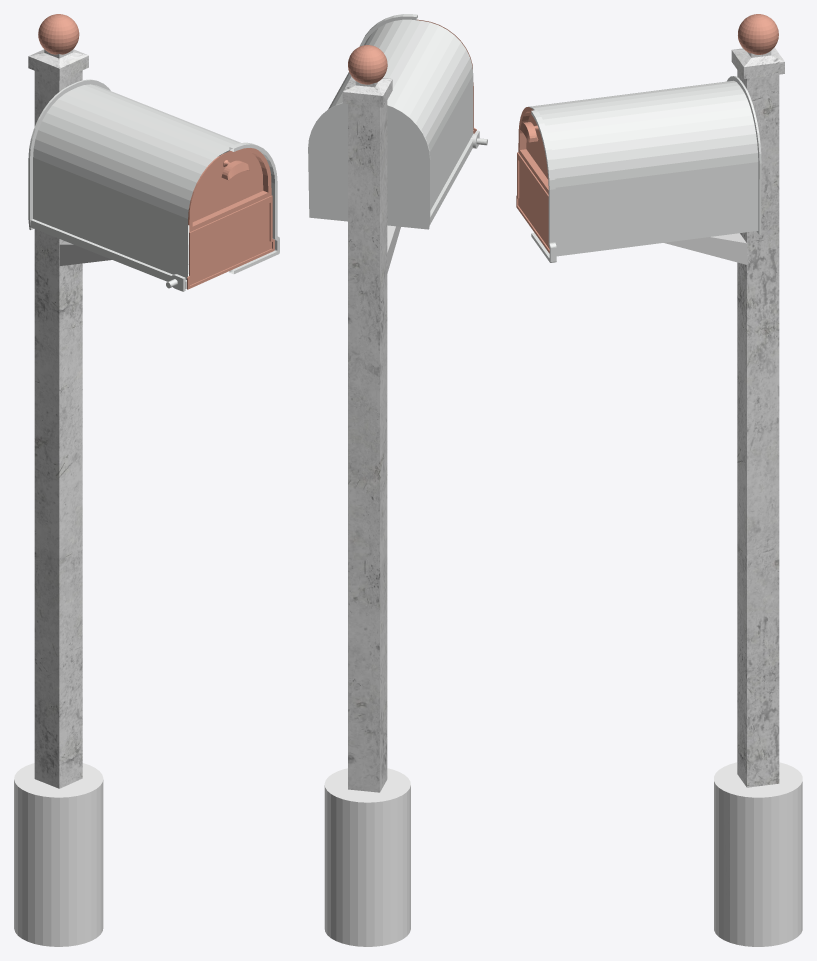
Rendered from mailbox-post-CiMJzcuK.glb.
The picture shows the model from 3 angles, left to right: view 1: azimuth 30°, elevation 25°; view 2: azimuth 150°, elevation 25°; view 3: azimuth 270°, elevation 25°; orthographic projection. The views are drawn at different scales.
Parts seen in each view (by area): view 1: Cube.008, Cube.006, Cylinder.003, Cube.007, Cube.009, Sphere.001, Cube.010, Cube.011, Plane.001; view 2: Cube.008, Cylinder.003, Cube.006, Cube.011, Sphere.001, Cube.009; view 3: Cube.006, Cube.008, Cylinder.003, Cube.007, Plane.001, Cube.010, Sphere.001, Cube.011.
Boxes of the visible parts, x1,y1,x2,y2 form: Cube.008: [28, 49, 88, 788]; Cube.006: [33, 84, 240, 279]; Cylinder.003: [14, 763, 103, 946]; Cube.007: [187, 148, 274, 289]; Cube.009: [30, 219, 186, 288]; Sphere.001: [38, 14, 79, 54]; Cube.010: [229, 142, 279, 274]; Cube.011: [28, 79, 110, 229]; Plane.001: [59, 241, 188, 265]; Cube.008: [342, 76, 392, 792]; Cylinder.003: [324, 768, 410, 946]; Cube.006: [328, 19, 473, 210]; Cube.011: [308, 103, 430, 229]; Sphere.001: [348, 45, 387, 84]; Cube.009: [429, 133, 474, 224]; Cube.006: [528, 80, 758, 256]; Cube.008: [731, 47, 784, 787]; Cylinder.003: [714, 762, 802, 946]; Cube.007: [516, 107, 549, 253]; Plane.001: [664, 233, 746, 264]; Cube.010: [531, 110, 556, 262]; Sphere.001: [738, 14, 778, 54]; Cube.011: [726, 76, 761, 234].
Bounding box in the file's own units: 0.2176 × 1.15 × 0.3282.
Materials: 4 (1 with a texture image).
